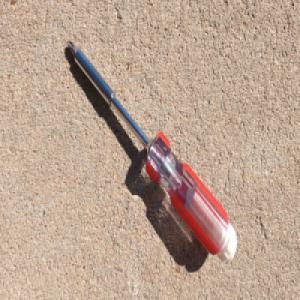Screwdriver: (66, 38, 238, 264)
